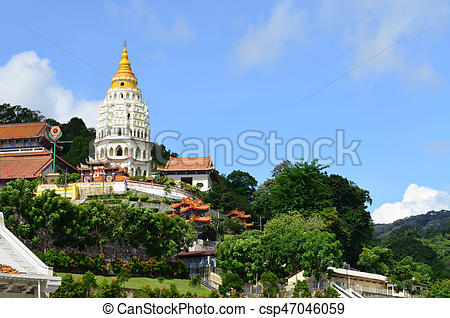Buddhist Temple: (94, 39, 153, 173)
